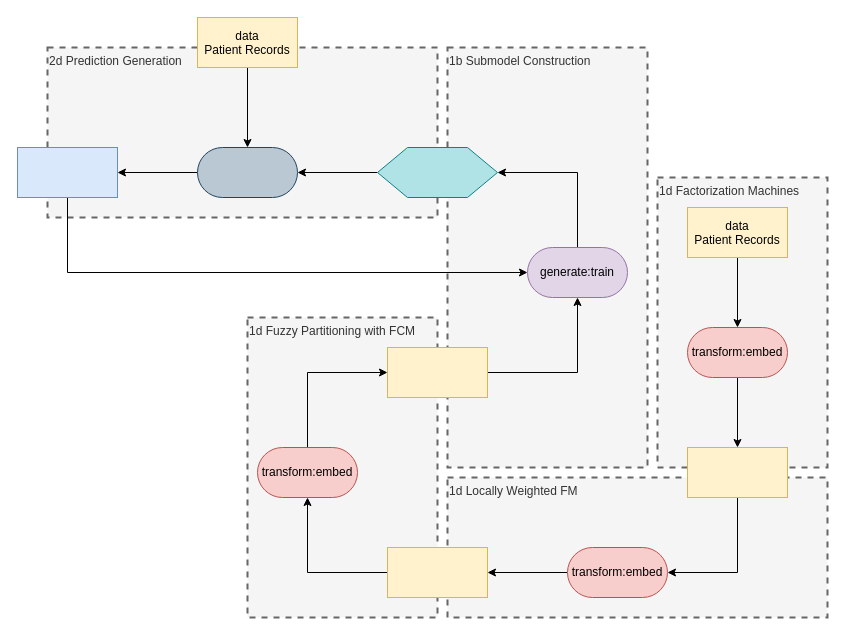
This 846x636 diagram has some shape labels left out. Each missing label, with the centre of its shape:
data Partitioned Subsets: (x=437, y=372)
data Prepared Dataset: (x=737, y=472)
data Weighted Training Instances: (x=437, y=572)
infer:deduce: (x=247, y=172)
model WFM Model: (x=437, y=172)
symbol Hospital Readmission: (x=67, y=172)
